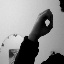o: (32, 8, 55, 36)
